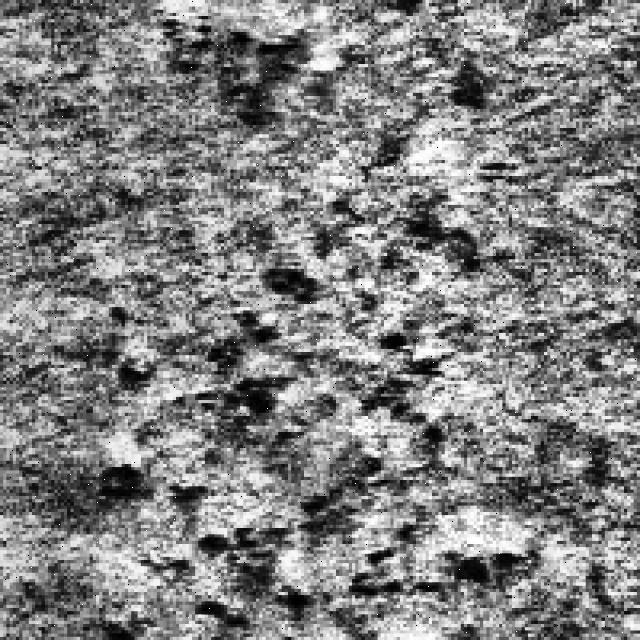Crazing: (128, 260, 486, 630), (144, 0, 339, 115)
